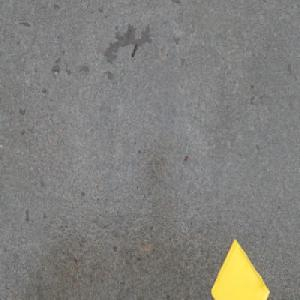PlasticPart: (210, 235, 271, 300)
